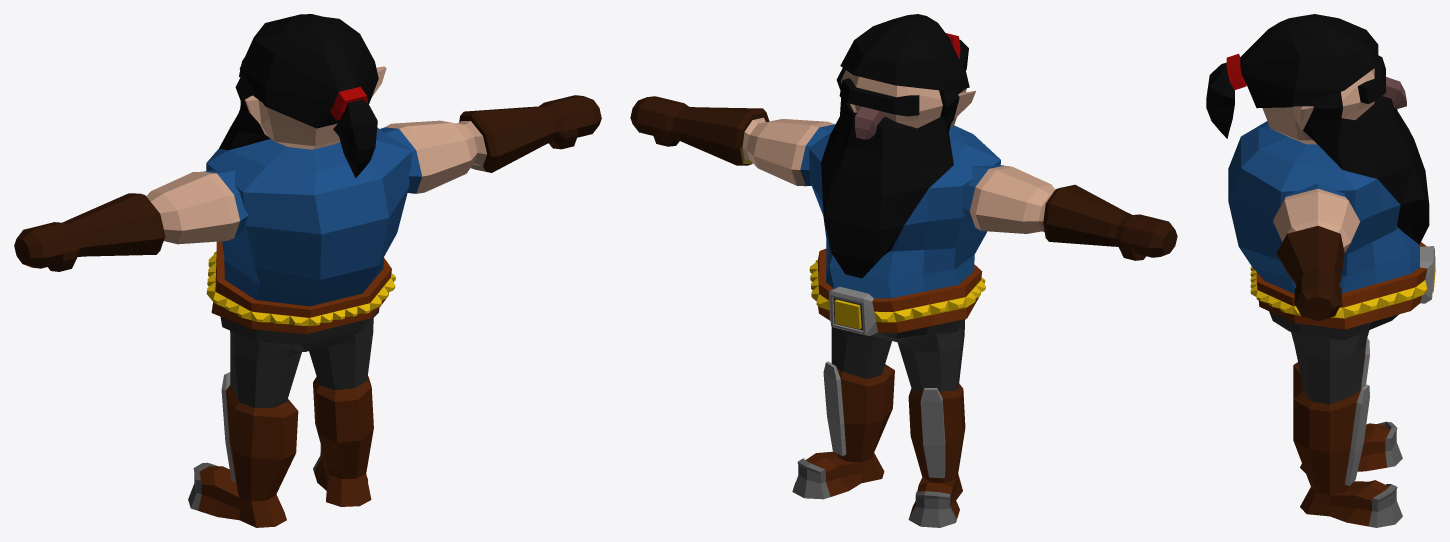
File: dwarf.fbx
The picture shows the model from 3 angles, left to right: view 1: azimuth 30°, elevation 25°; view 2: azimuth 150°, elevation 25°; view 3: azimuth 270°, elevation 25°; orthographic projection. The views are drawn at different scales.
Parts seen in each view (by area): view 1: Body_tmp, hands, legs; view 2: Body_tmp, hands, legs, nose; view 3: Body_tmp, legs, hands, nose.
Part boxes in pixels (x1,y1,x2,y2): Body_tmp: (206, 14, 412, 351); hands: (14, 95, 601, 271); legs: (188, 318, 373, 527); Body_tmp: (809, 14, 1000, 342); hands: (630, 96, 1177, 260); legs: (792, 321, 965, 527); nose: (854, 106, 884, 139); Body_tmp: (1206, 14, 1435, 341); legs: (1291, 330, 1402, 527); hands: (1273, 183, 1360, 321); nose: (1382, 77, 1406, 108).
Size of the model in its own units: 859 by 708 by 314.
Materials: 1 (1 with a texture image).
